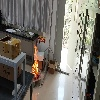fire: (32, 43, 39, 80)
